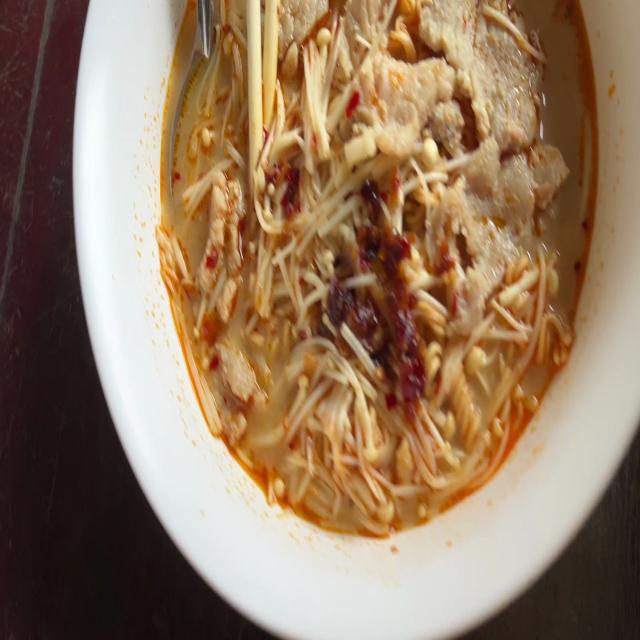noodle: (152, 0, 612, 547)
